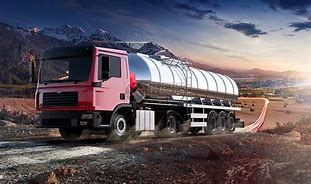oil truck: (28, 38, 250, 144)
